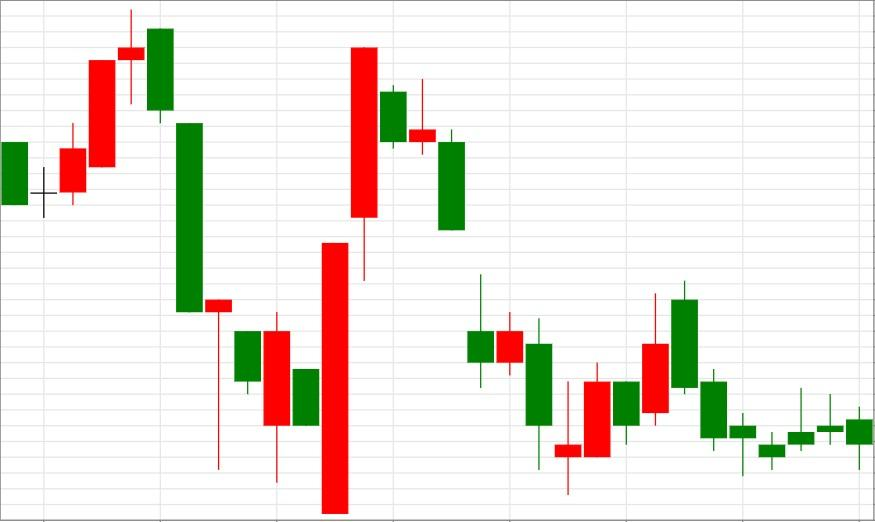bullish_engulfing_rise: (146, 28, 349, 515)
